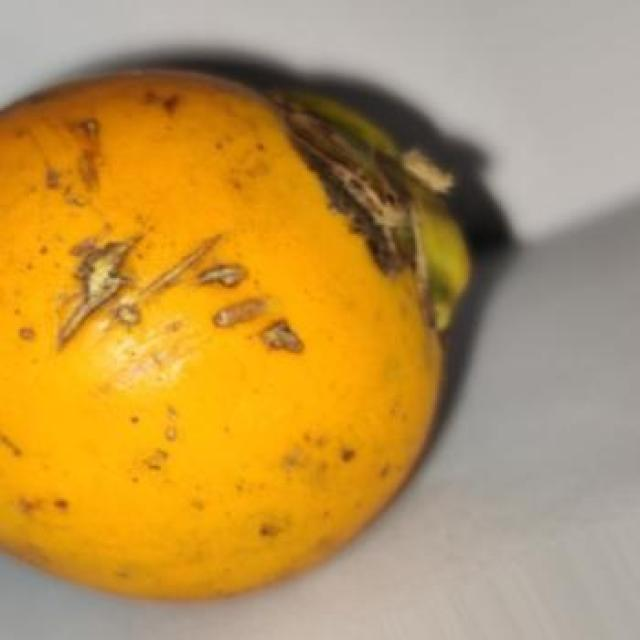good: (0, 69, 510, 605)
